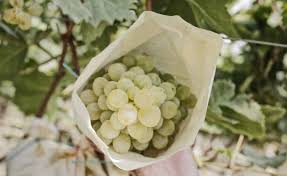Green grapes: (83, 67, 186, 150)
